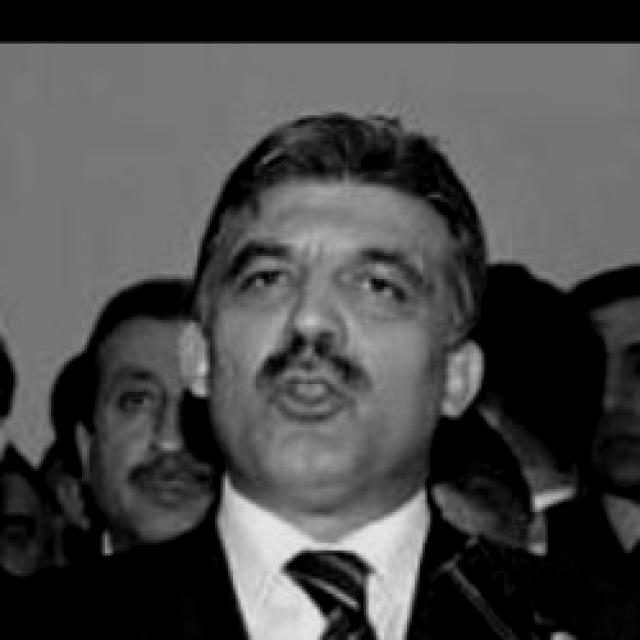real: (206, 106, 460, 494), (231, 244, 422, 320)
